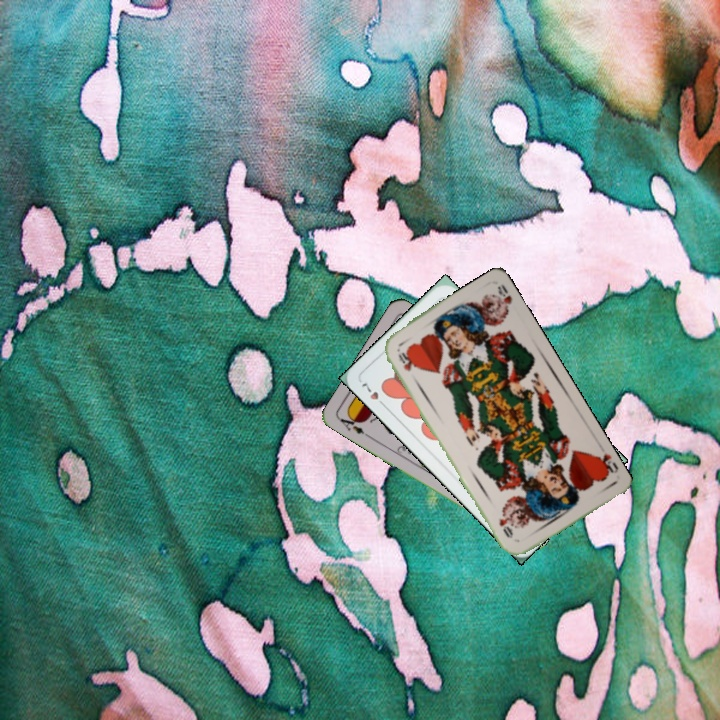EA: (335, 410, 367, 437)
H7: (357, 379, 389, 410)
HO: (589, 449, 621, 479), (394, 348, 418, 374)
